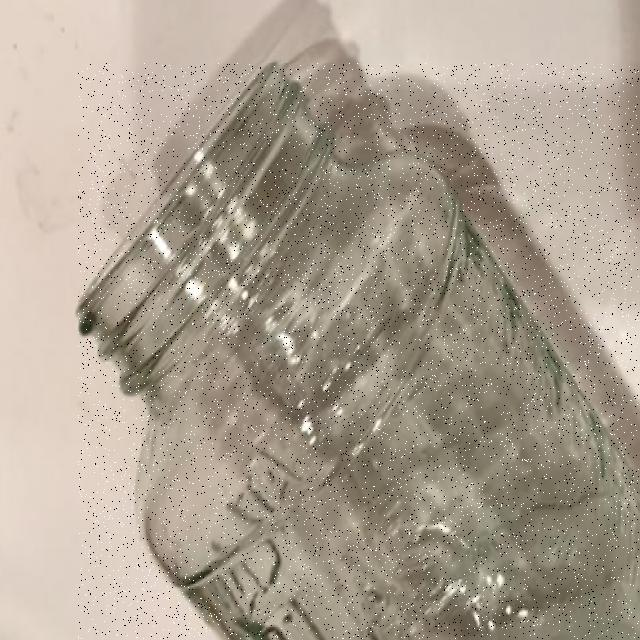glass: (79, 63, 639, 639)
